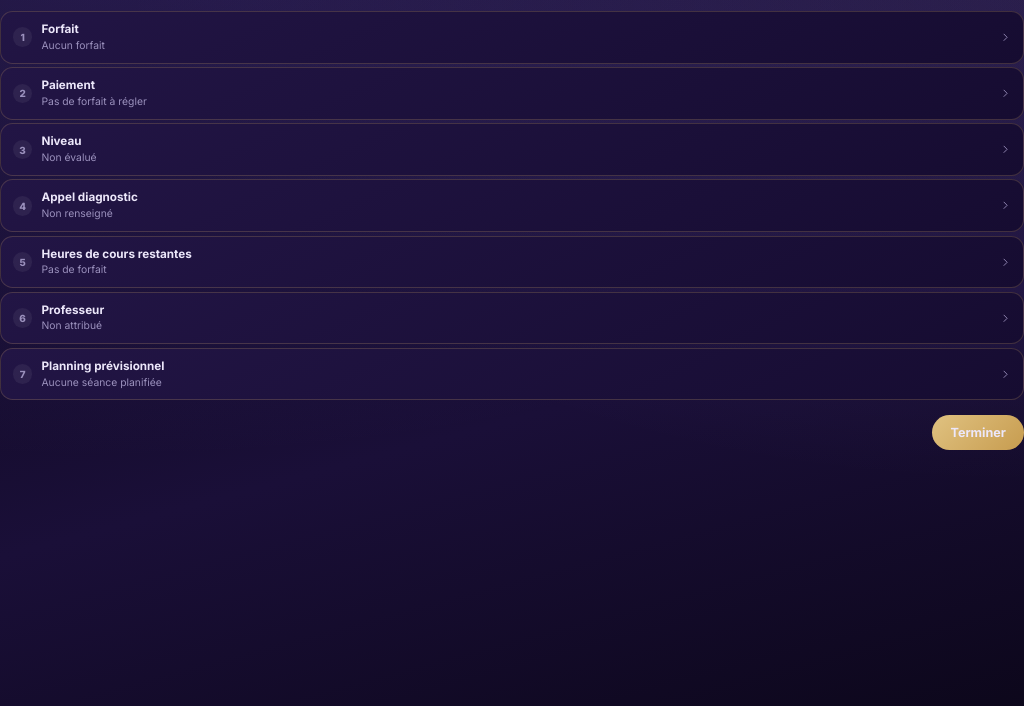
Test case: CompleterDossierEtudiant › refuse un diagnostic vide
Click the button "4 Appel diagnostic Non renseigné" at (90, 197), box [1,180,1023,231]
(page scrolled)
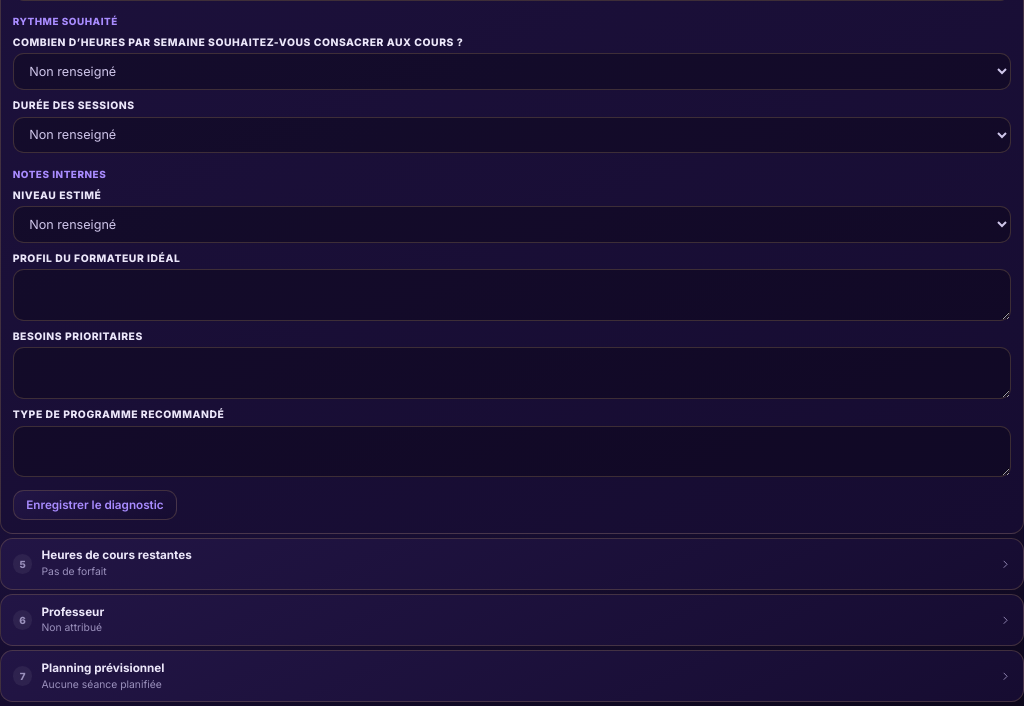
Click the button "Enregistrer le diagnostic" at (95, 505), box [13,490,177,520]
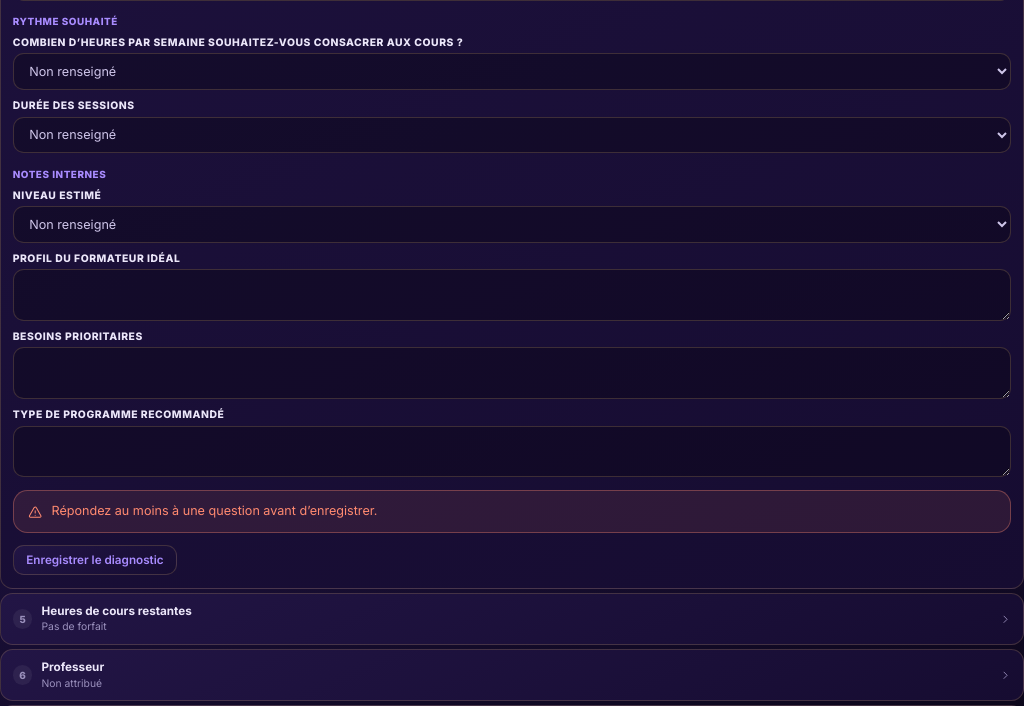
Check: the text "Répondez au moins à une question avant d’enregistrer." is shown, box [52,502,377,521]
